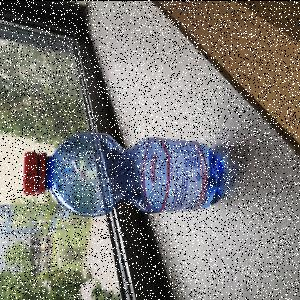Plastic-bottle: (23, 131, 227, 219)
